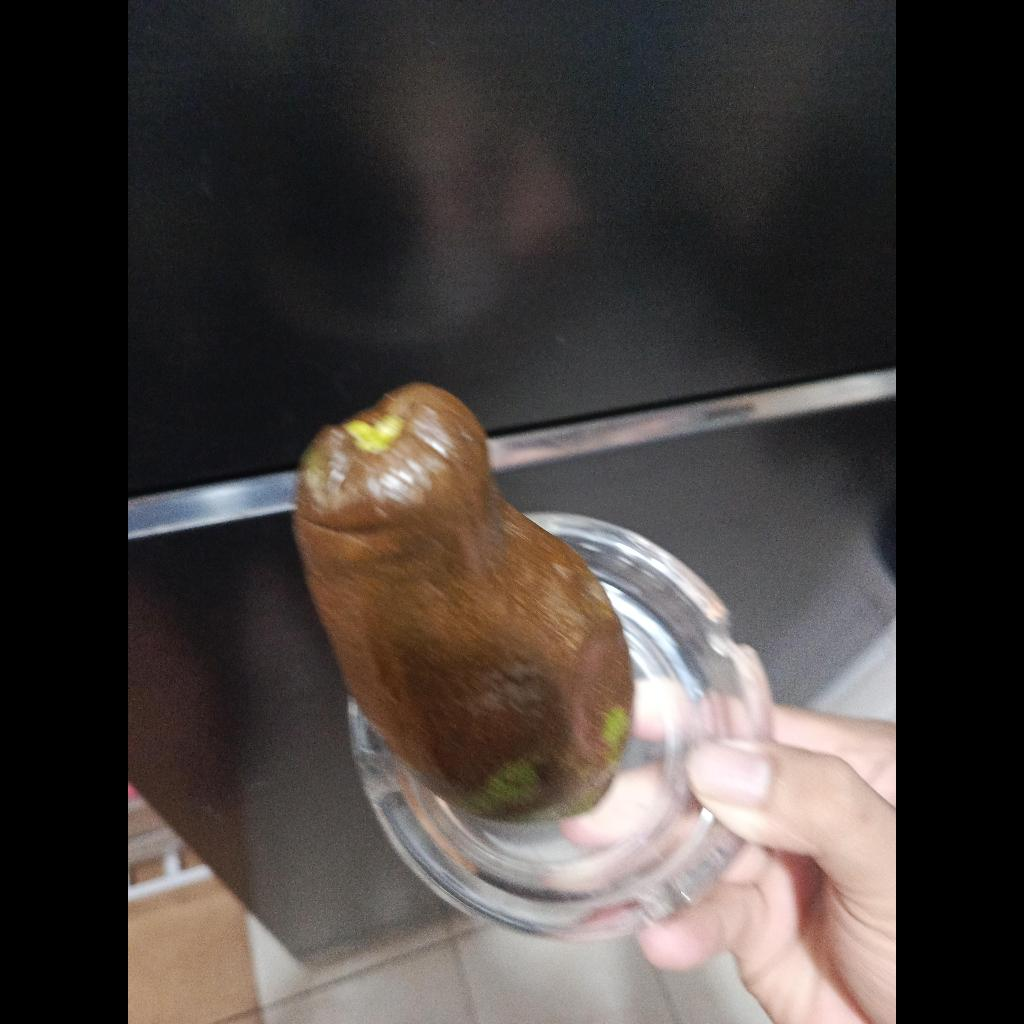pudricion_peduncular: (294, 384, 633, 820)
